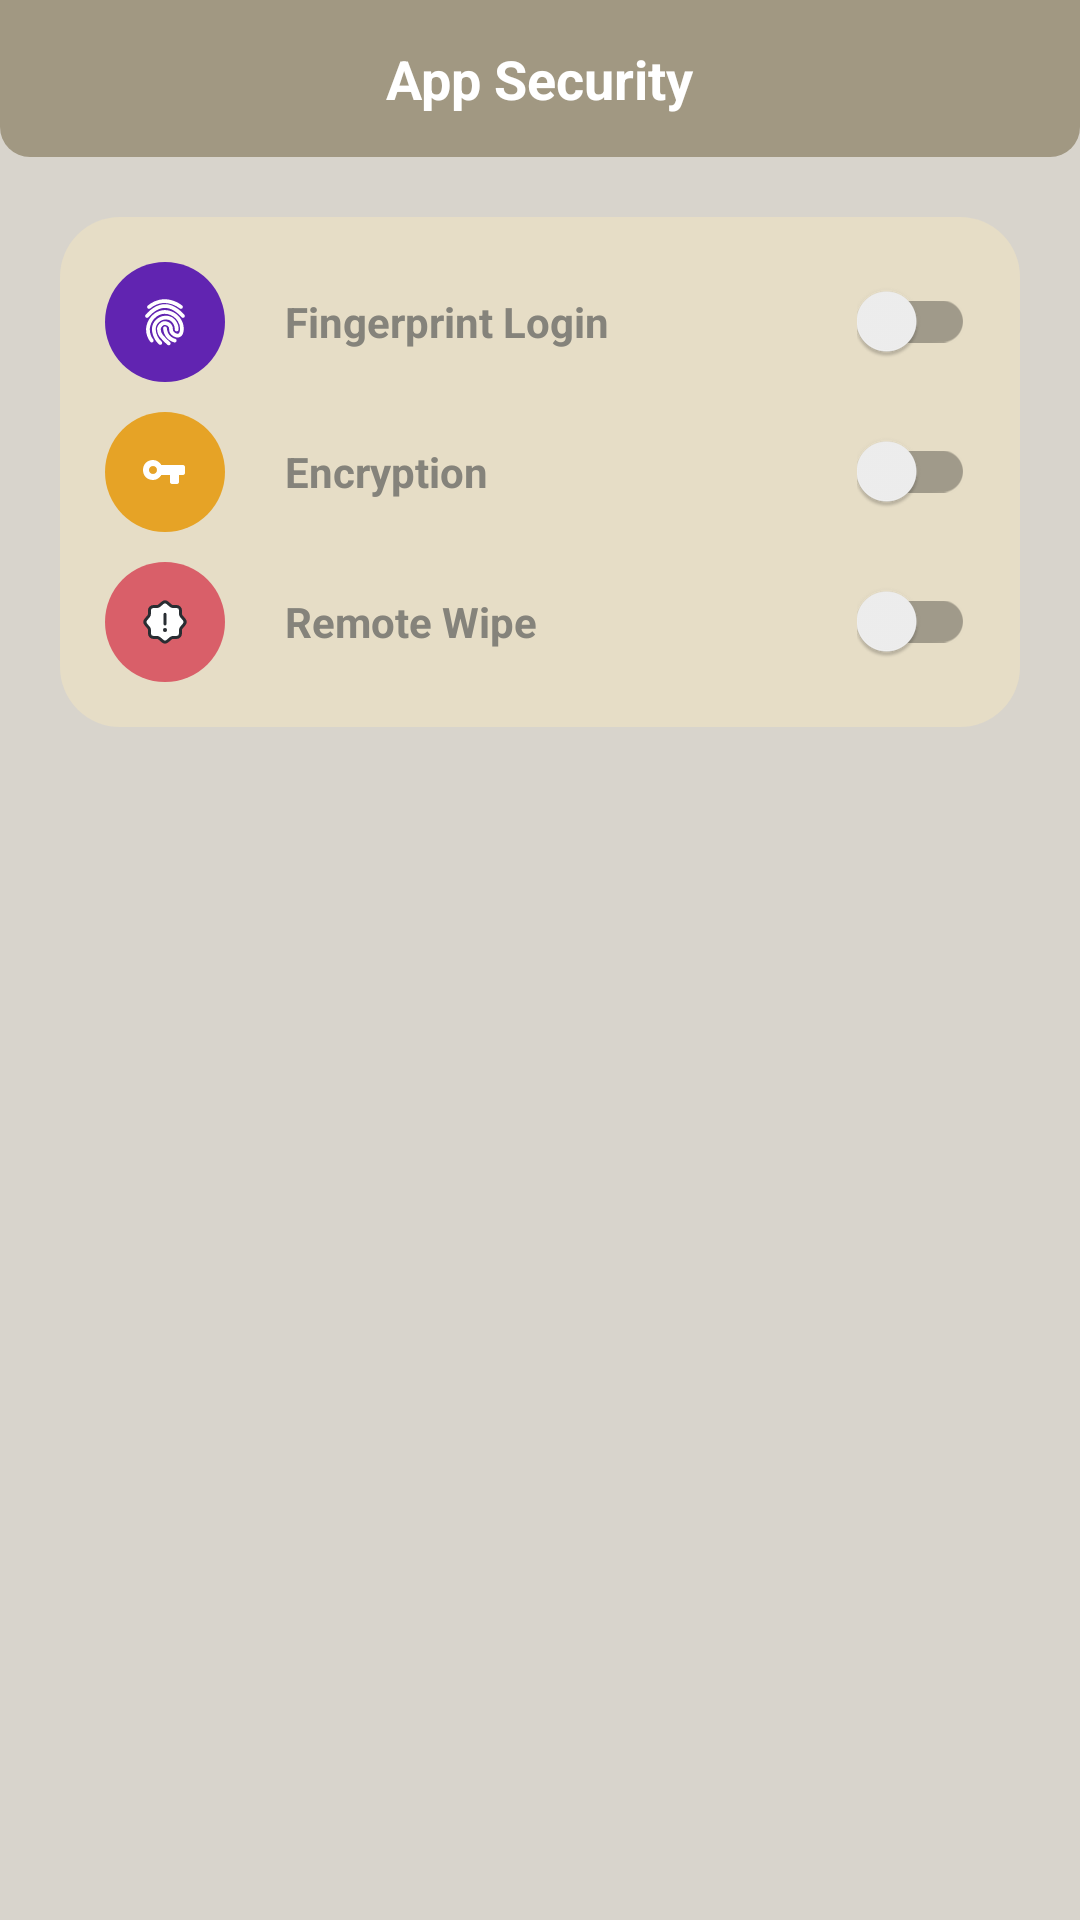

Where to tap for icons on this 1080 x 1920 app screen, as (x=x, y=y):
key: (x=165, y=472)
